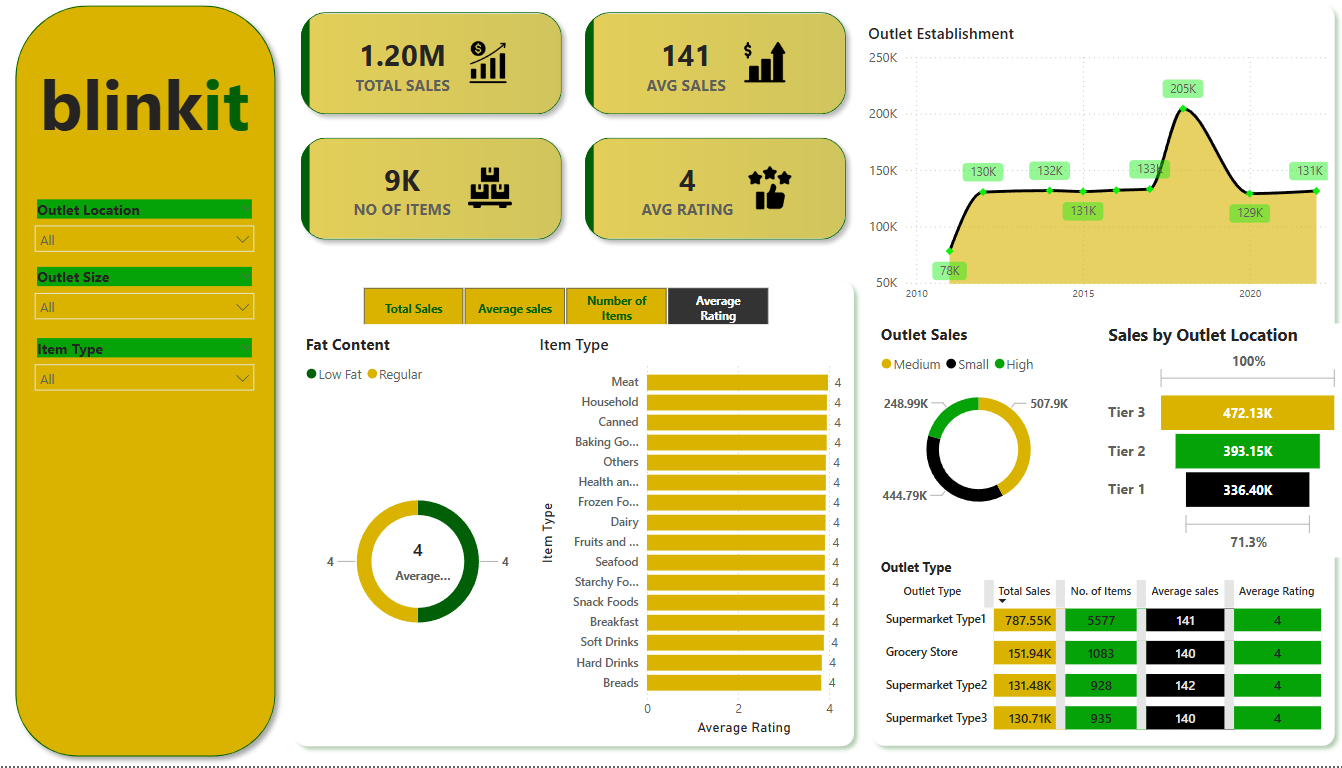

What the dashboard file says about the page in this screenshot:
{"tool":"powerbi","page":{"name":"Page 1","canvas":[1400,800],"ordinal":0},"visuals":[{"type":"shape","box":[10.5,0,289.7,800],"z":0},{"type":"textbox","box":[30,57,249.1,120.1],"z":1000},{"type":"cardVisual","fields":{"Data":["BlinkIT Grocery Data.Total Sales","BlinkIT Grocery Data.Number of Items","BlinkIT Grocery Data.Average sales","BlinkIT Grocery Data.Average Rating"]},"box":[300.3,0,600.5,270.4],"z":2000},{"type":"shape","box":[301.6,286.7,599.2,501.4],"z":3000},{"type":"donutChart","title":"Fat Content","fields":{"Y":["BlinkIT Grocery Data.Average Rating"],"Category":["BlinkIT Grocery Data.Item Fat Content"]},"box":[316.6,350.5,243.2,422.6],"z":4000},{"type":"slicer","fields":{"Values":["METRICS.METRICS"]},"box":[356,296.2,470.1,44.8],"z":5000},{"type":"cardVisual","fields":{"Data":["BlinkIT Grocery Data.Average Rating"]},"box":[386.5,547.3,102.7,71.6],"z":6000},{"type":"barChart","title":"Item Type","fields":{"Y":["BlinkIT Grocery Data.Average Rating"],"Category":["BlinkIT Grocery Data.Item Type"]},"box":[559.8,350.5,327.4,422.6],"z":7000},{"type":"shape","box":[900.8,0,498.6,788],"z":8000},{"type":"lineChart","title":"Outlet Establishment","fields":{"Y":["BlinkIT Grocery Data.Total Sales"],"Category":["BlinkIT Grocery Data.Outlet Establishment Year"]},"box":[900.8,27.2,487.8,298.9],"z":9000},{"type":"donutChart","title":"Outlet Sales","fields":{"Y":["BlinkIT Grocery Data.Total Sales"],"Category":["BlinkIT Grocery Data.Outlet Size"]},"box":[914.9,340.5,213.5,210.8],"z":10000},{"type":"funnel","title":"Sales by Outlet Location","fields":{"Category":["BlinkIT Grocery Data.Outlet Location Type"],"Y":["Sum(BlinkIT Grocery Data.Sales)"]},"box":[1150,340.5,250,243.2],"z":11000},{"type":"pivotTable","title":"Outlet Type","fields":{"Rows":["BlinkIT Grocery Data.Outlet Type"],"Values":["BlinkIT Grocery Data.Total Sales","BlinkIT Grocery Data.No. of Items","BlinkIT Grocery Data.Average sales","BlinkIT Grocery Data.Average Rating"]},"box":[914.9,583.8,470.3,183.8],"z":12000},{"type":"slicer","fields":{"Values":["BlinkIT Grocery Data.Outlet Location Type"]},"box":[29.7,206.8,248.6,63.5],"z":13000},{"type":"slicer","fields":{"Values":["BlinkIT Grocery Data.Outlet Size"]},"box":[29.7,277,248.6,63.5],"z":14000},{"type":"slicer","fields":{"Values":["BlinkIT Grocery Data.Item Type"]},"box":[29.7,350,248.6,63.5],"z":15000}]}

Visuals, with their boxes in screenshot pixels (x1, y1, x2, y2), scaled from the page's 1400x800 canvas onto the 1342x768 screenshot:
shape: l=10, t=0, r=288, b=767
textbox: l=29, t=55, r=268, b=170
cardVisual - BlinkIT Grocery Data.Total Sales x BlinkIT Grocery Data.Number of Items: l=288, t=0, r=863, b=260
shape: l=289, t=275, r=863, b=757
"Fat Content" donutChart: l=303, t=336, r=537, b=742
slicer - METRICS.METRICS: l=341, t=284, r=792, b=327
cardVisual - BlinkIT Grocery Data.Average Rating: l=370, t=525, r=469, b=594
"Item Type" barChart: l=537, t=336, r=850, b=742
shape: l=863, t=0, r=1341, b=756
"Outlet Establishment" lineChart: l=863, t=26, r=1331, b=313
"Outlet Sales" donutChart: l=877, t=327, r=1082, b=529
"Sales by Outlet Location" funnel: l=1102, t=327, r=1341, b=560
"Outlet Type" pivotTable: l=877, t=560, r=1328, b=737
slicer - BlinkIT Grocery Data.Outlet Location Type: l=28, t=199, r=267, b=259
slicer - BlinkIT Grocery Data.Outlet Size: l=28, t=266, r=267, b=327
slicer - BlinkIT Grocery Data.Item Type: l=28, t=336, r=267, b=397
